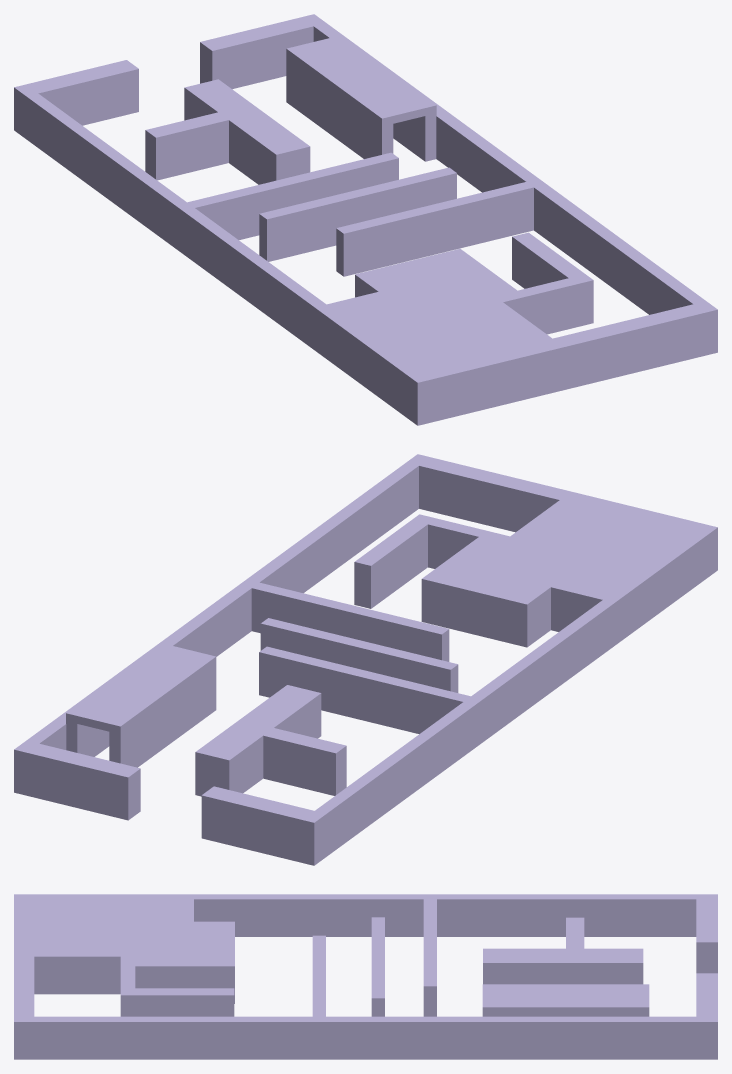
The model's file is Level1.fbx.
3 renders of one model, top to bottom at view 1: azimuth 30°, elevation 25°; view 2: azimuth 150°, elevation 25°; view 3: azimuth 270°, elevation 25°, orthographic. The views are drawn at different scales.
Visible parts, largest first — view 1: Plane; view 2: Plane; view 3: Plane.
Boxes of the visible parts, x1,y1,x2,y2 form: Plane: (14,14,717,425); Plane: (14,454,717,865); Plane: (14,894,717,1059).
Bounding box in the file's own units: 1987 × 340 × 4629.
